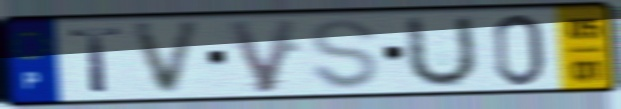0: (489, 11, 549, 88)
S: (308, 16, 383, 92)
T: (66, 25, 127, 95)
U: (404, 12, 482, 91)
V: (222, 15, 301, 96), (129, 18, 207, 98)
